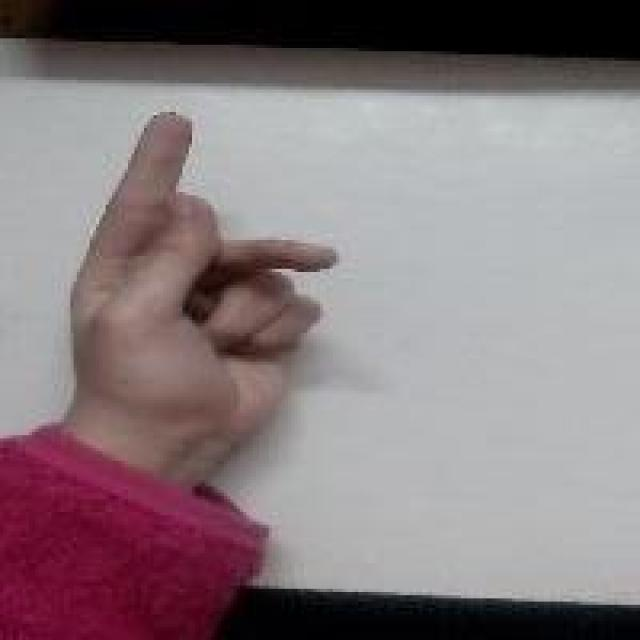K: (56, 104, 376, 437)
